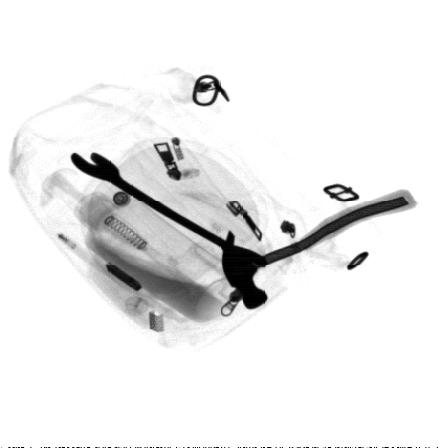Hammer: (222, 188, 419, 309)
Wrench: (70, 152, 268, 267)
